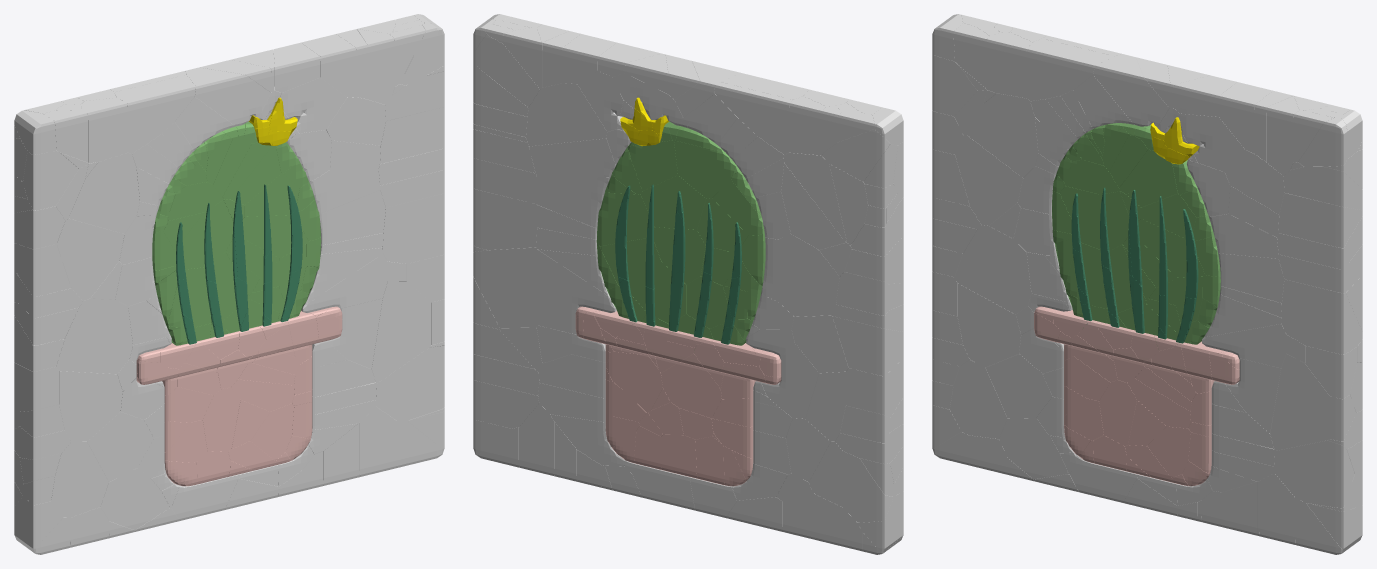
Rendered from Cactus.fbx.
3 renders of one model, left to right at view 1: azimuth 30°, elevation 25°; view 2: azimuth 150°, elevation 25°; view 3: azimuth 330°, elevation 25°, orthographic.
Parts seen in each view (by area): view 1: Border_cell.018, Border_cell.076, Border_cell.105, Border_cell.071, Border_cell.035, Border_cell.027, Border_cell.141, Border_cell.056, Border_cell.015, Border_cell.136, Border_cell.029, Border_cell.050 (+110 smaller); view 2: Border_cell.107, Border_cell.008, Border_cell.146, Border_cell.053, Border_cell.011, Border_cell.137, Border_cell.117, Border_cell.059, Border_cell.073, Base_cell.067, Border_cell.016, Border_cell.052 (+112 smaller); view 3: Border_cell.018, Border_cell.035, Border_cell.076, Border_cell.071, Border_cell.105, Border_cell.027, Border_cell.141, Border_cell.056, Border_cell.015, Border_cell.078, Border_cell.136, Border_cell.029 (+113 smaller).
Boxes of the visible parts, x1,y1,x2,y2 form: Border_cell.018: [56, 298, 132, 373]; Border_cell.076: [371, 281, 431, 383]; Border_cell.105: [68, 153, 139, 233]; Border_cell.071: [376, 346, 444, 420]; Border_cell.035: [382, 193, 444, 263]; Border_cell.027: [59, 371, 122, 441]; Border_cell.141: [56, 218, 124, 301]; Border_cell.056: [114, 75, 195, 153]; Border_cell.015: [51, 441, 108, 517]; Border_cell.136: [185, 67, 270, 126]; Border_cell.029: [87, 412, 153, 481]; Border_cell.050: [100, 468, 169, 530]; Border_cell.107: [473, 247, 536, 328]; Border_cell.008: [778, 233, 839, 316]; Border_cell.146: [526, 83, 607, 146]; Border_cell.053: [537, 249, 616, 334]; Border_cell.011: [473, 188, 537, 250]; Border_cell.137: [714, 82, 792, 154]; Border_cell.117: [529, 138, 615, 177]; Border_cell.059: [832, 316, 903, 376]; Border_cell.073: [537, 177, 610, 227]; Base_cell.067: [661, 353, 721, 418]; Border_cell.016: [781, 163, 845, 249]; Border_cell.052: [761, 343, 818, 418]; Border_cell.018: [954, 225, 1031, 314]; Border_cell.035: [1281, 279, 1362, 354]; Border_cell.076: [1270, 354, 1329, 450]; Border_cell.071: [1274, 440, 1354, 507]; Border_cell.105: [967, 93, 1038, 177]; Border_cell.027: [957, 283, 1020, 367]; Border_cell.141: [955, 135, 1022, 225]; Border_cell.056: [1026, 38, 1114, 101]; Border_cell.015: [949, 360, 1007, 439]; Border_cell.078: [1278, 193, 1362, 247]; Border_cell.136: [1093, 54, 1169, 126]; Border_cell.029: [986, 354, 1052, 418].
Bounding box in the file's own units: 10 × 10 × 1.07.
